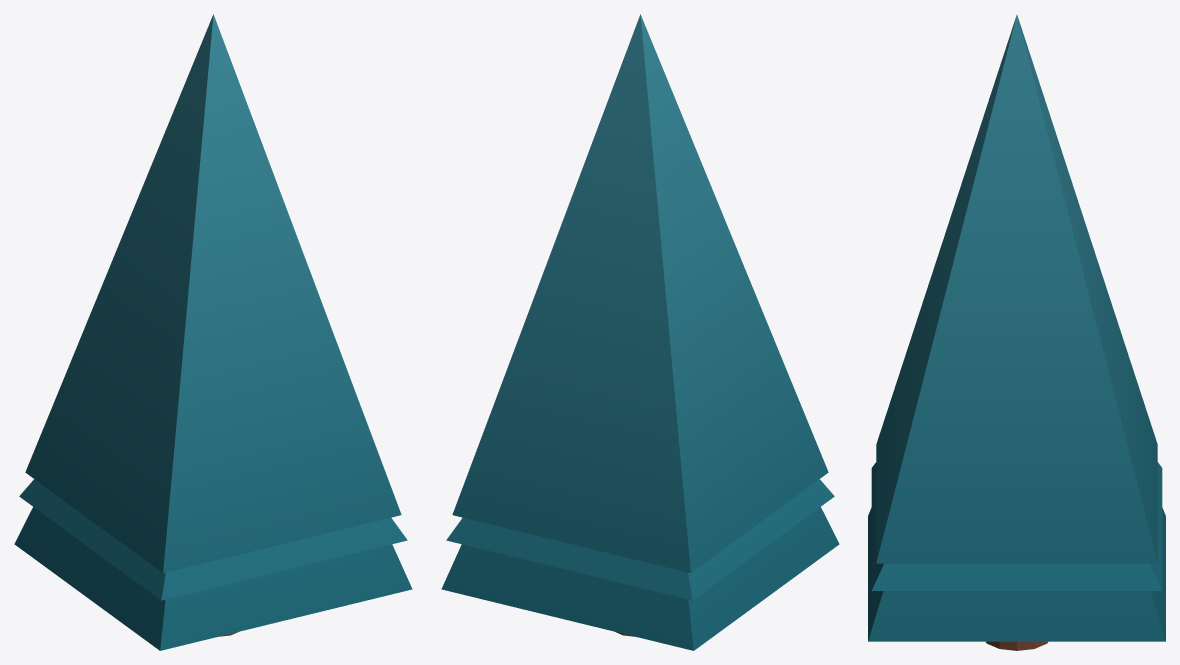
File: Tree_34_gradient_blue_vc.fbx
3 views of the same model, side by side, from view 1: azimuth 30°, elevation 25°; view 2: azimuth 150°, elevation 25°; view 3: azimuth 270°, elevation 25° (orthographic). The views are drawn at different scales.
Visible parts, largest first — view 1: Tree_34_gradient_blue_vc; view 2: Tree_34_gradient_blue_vc; view 3: Tree_34_gradient_blue_vc.
Part boxes in pixels (<box>): Tree_34_gradient_blue_vc: <box>14,14,412,650</box>; Tree_34_gradient_blue_vc: <box>441,14,839,650</box>; Tree_34_gradient_blue_vc: <box>868,15,1165,650</box>.
Size of the model in its own units: 83.78 by 193 by 83.78.
